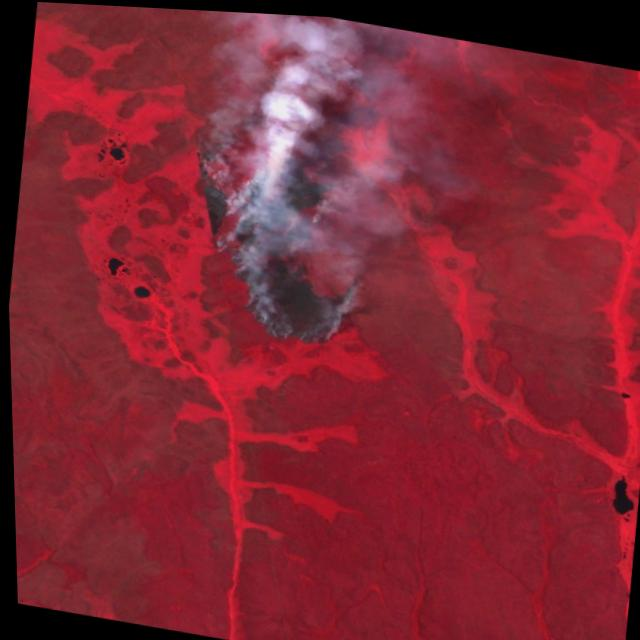fire: (166, 124, 376, 351)
